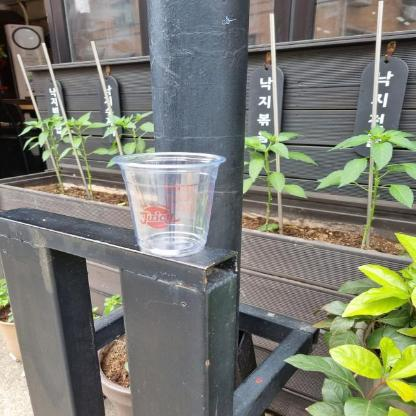Plastic Cup: (109, 148, 231, 260)
